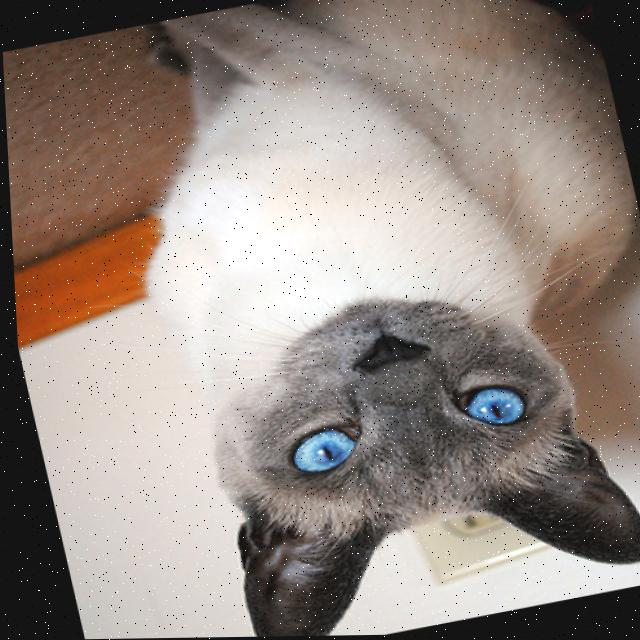Siamese: (70, 0, 640, 639)
